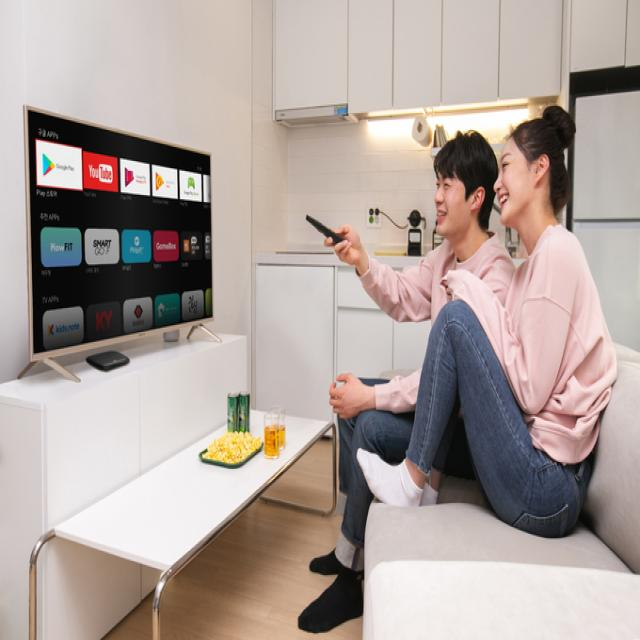tv-person: (21, 89, 612, 540), (18, 91, 495, 495)
